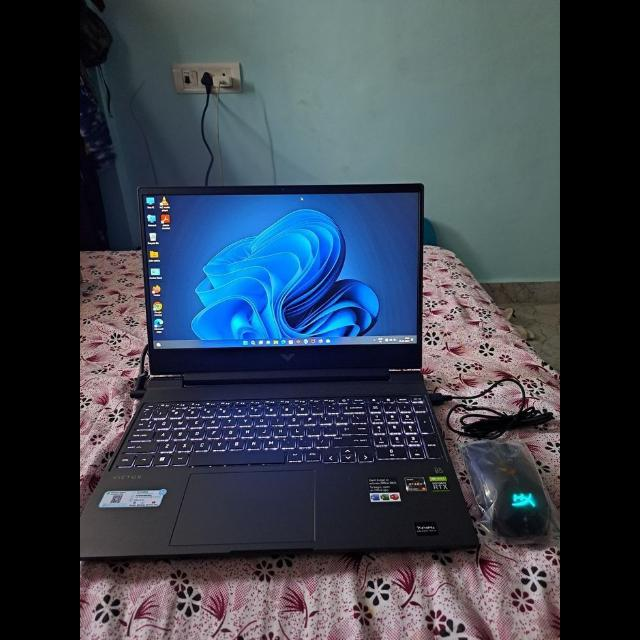laptop: (80, 173, 483, 573)
